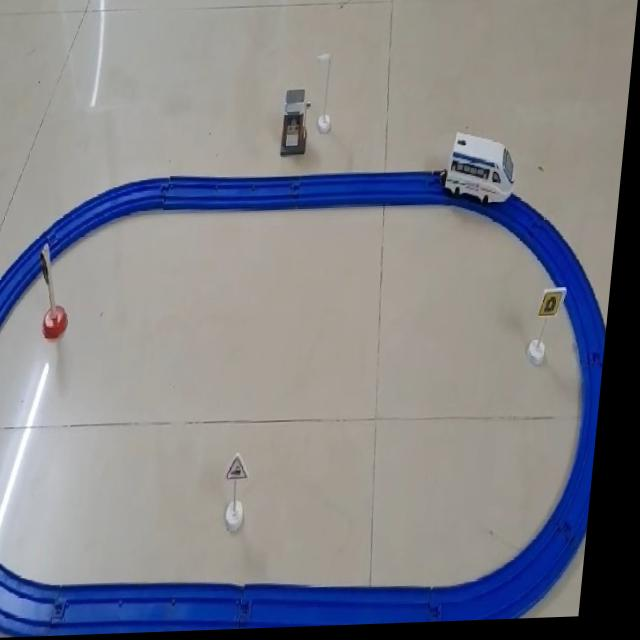bus: (447, 130, 523, 209)
